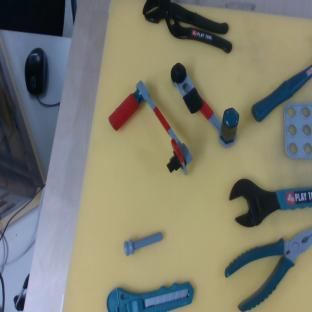non_pass: (158, 58, 251, 150)
pass: (100, 81, 199, 194)
